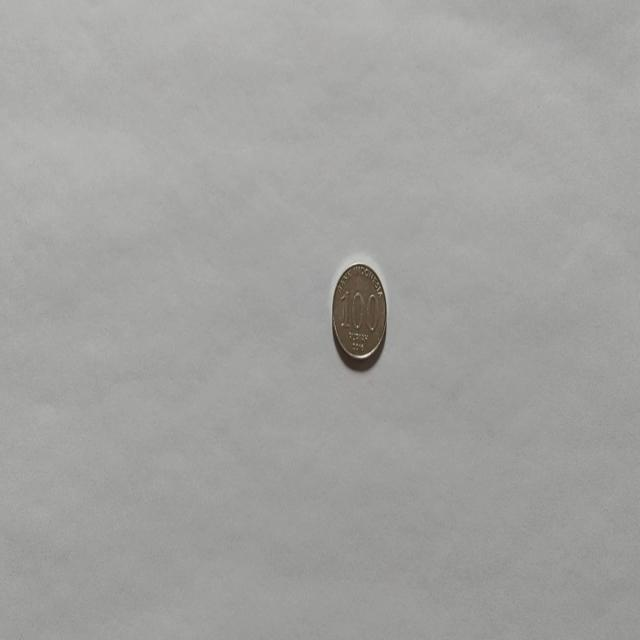seratus rupiah: (330, 260, 388, 366)
